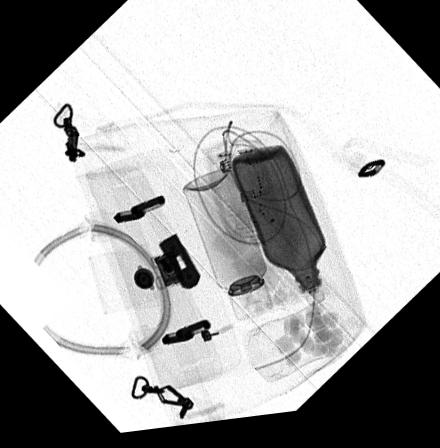Sprayer: (182, 174, 271, 326)
